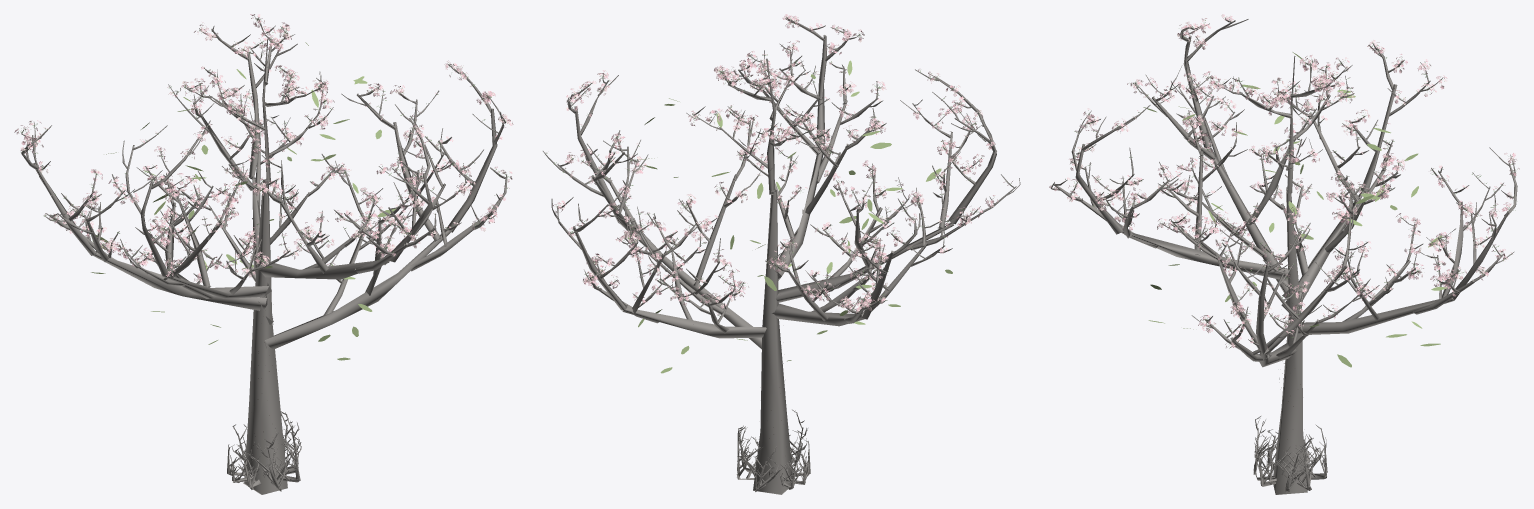
Rendered from akebono_02.glb.
The picture shows the model from 3 angles, left to right: view 1: azimuth 30°, elevation 25°; view 2: azimuth 150°, elevation 25°; view 3: azimuth 270°, elevation 25°; orthographic projection. The views are drawn at different scales.
Visible parts, largest first — view 1: Akebono_Petals_Consolidated, Akebono_Branch_Order_2, Akebono_Branch_Order_3, Akebono_Trunk_and_Scaffolds.001, Akebono_Branch_Order_4, Akebono_Trunk_and_Scaffolds, Akebono_Calyx_and_Stamens; view 2: Akebono_Petals_Consolidated, Akebono_Branch_Order_2, Akebono_Branch_Order_3, Akebono_Branch_Order_4, Akebono_Trunk_and_Scaffolds.001, Akebono_Trunk_and_Scaffolds, Akebono_Calyx_and_Stamens; view 3: Akebono_Petals_Consolidated, Akebono_Branch_Order_2, Akebono_Branch_Order_3, Akebono_Branch_Order_4, Akebono_Trunk_and_Scaffolds.001, Akebono_Trunk_and_Scaffolds, Akebono_Calyx_and_Stamens.
Boxes of the visible parts, left/top/right/bottom form: Akebono_Petals_Consolidated: left=14, top=14, right=513, bottom=283; Akebono_Branch_Order_2: left=33, top=39, right=497, bottom=489; Akebono_Branch_Order_3: left=21, top=18, right=507, bottom=482; Akebono_Trunk_and_Scaffolds.001: left=93, top=39, right=450, bottom=491; Akebono_Branch_Order_4: left=21, top=15, right=506, bottom=473; Akebono_Trunk_and_Scaffolds: left=243, top=179, right=287, bottom=494; Akebono_Calyx_and_Stamens: left=20, top=18, right=509, bottom=279; Akebono_Petals_Consolidated: left=545, top=14, right=1012, bottom=315; Akebono_Branch_Order_2: left=573, top=35, right=996, bottom=490; Akebono_Branch_Order_3: left=557, top=18, right=1016, bottom=483; Akebono_Branch_Order_4: left=543, top=16, right=1020, bottom=474; Akebono_Trunk_and_Scaffolds.001: left=619, top=58, right=953, bottom=491; Akebono_Trunk_and_Scaffolds: left=753, top=190, right=792, bottom=494; Akebono_Calyx_and_Stamens: left=546, top=18, right=1011, bottom=316; Akebono_Petals_Consolidated: left=1049, top=14, right=1519, bottom=347; Akebono_Branch_Order_2: left=1075, top=35, right=1509, bottom=491; Akebono_Branch_Order_3: left=1054, top=20, right=1517, bottom=481; Akebono_Branch_Order_4: left=1051, top=17, right=1515, bottom=476; Akebono_Trunk_and_Scaffolds.001: left=1121, top=56, right=1454, bottom=492; Akebono_Trunk_and_Scaffolds: left=1273, top=187, right=1307, bottom=494; Akebono_Calyx_and_Stamens: left=1052, top=18, right=1517, bottom=340.
Size of the model in its own units: 9.83 by 9.9 by 9.62.
